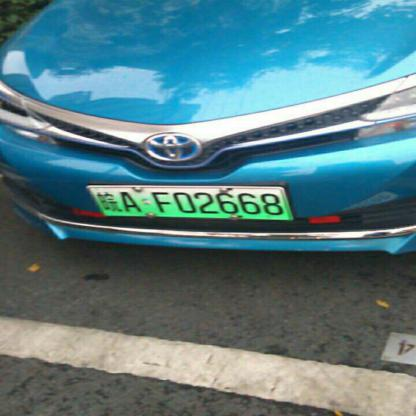lp: (89, 188, 292, 219)
